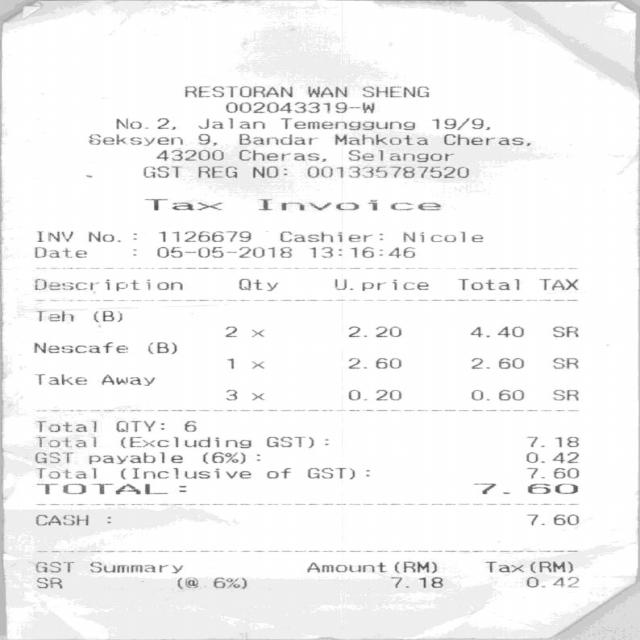text: (256, 198, 439, 209), (306, 165, 467, 177), (32, 278, 182, 289), (35, 483, 184, 494), (224, 101, 372, 112), (278, 117, 413, 129), (156, 246, 291, 258), (119, 436, 250, 447), (119, 467, 250, 478), (308, 246, 414, 258), (347, 149, 452, 161), (279, 230, 381, 242), (183, 85, 290, 96), (86, 133, 181, 145), (333, 278, 427, 290), (442, 133, 528, 145), (238, 149, 324, 161), (157, 230, 250, 241), (89, 561, 182, 572), (89, 452, 181, 463), (32, 342, 127, 352), (335, 134, 427, 144), (238, 133, 315, 144), (143, 198, 220, 209), (402, 231, 482, 241), (304, 561, 384, 571), (457, 278, 520, 290), (196, 117, 263, 128), (35, 420, 96, 432), (361, 86, 426, 97), (114, 117, 173, 129), (430, 117, 488, 129), (201, 451, 258, 463), (265, 437, 327, 448), (306, 467, 368, 478), (154, 150, 222, 160), (35, 467, 94, 478), (34, 246, 86, 258), (34, 436, 93, 446), (469, 325, 522, 336), (99, 374, 152, 385), (469, 388, 522, 399), (33, 373, 85, 384), (525, 467, 577, 478), (34, 514, 86, 525), (390, 576, 442, 587), (525, 451, 576, 462), (525, 576, 576, 587), (469, 358, 522, 368), (114, 420, 162, 431), (528, 482, 576, 493), (528, 560, 571, 572), (525, 436, 576, 446), (525, 514, 576, 524), (394, 560, 434, 572), (239, 278, 278, 290), (197, 165, 235, 177), (34, 560, 72, 572), (305, 85, 345, 96), (250, 165, 286, 177), (538, 278, 577, 289), (211, 576, 246, 588), (142, 166, 180, 177), (34, 310, 72, 321), (35, 230, 72, 241), (471, 482, 508, 493), (32, 452, 71, 462), (486, 561, 522, 571), (147, 341, 176, 353), (91, 310, 120, 321), (34, 576, 60, 588), (86, 231, 113, 242), (551, 325, 577, 336), (374, 325, 399, 336), (374, 357, 399, 368), (552, 388, 576, 399), (265, 467, 289, 478), (551, 358, 577, 368), (376, 388, 399, 399), (175, 576, 196, 588), (197, 133, 215, 145), (347, 388, 365, 399), (348, 325, 365, 336), (347, 358, 365, 368), (224, 389, 236, 400), (250, 360, 264, 369), (224, 325, 235, 336), (182, 420, 194, 430), (250, 392, 263, 400), (250, 329, 263, 336), (226, 358, 234, 368)
